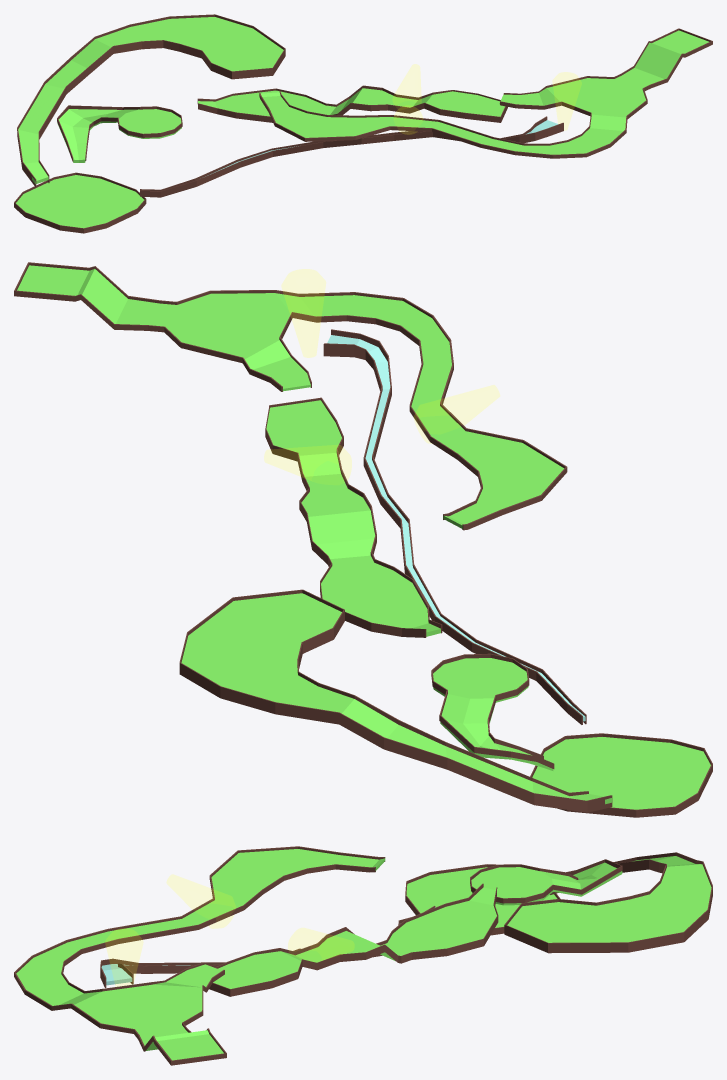
3 views of the same model, one above another, from view 1: azimuth 30°, elevation 25°; view 2: azimuth 150°, elevation 25°; view 3: azimuth 270°, elevation 25° (orthographic). The views are drawn at different scales.
Visible parts, largest first — view 1: Cube.093, Cube.094, Cylinder.050, Cylinder.051; view 2: Cube.093, Cube.094, Cube.096, Cylinder.050, Cylinder.051, Cylinder.052; view 3: Cube.093, Cube.094, Cylinder.050, Cylinder.052, Cylinder.051, Cube.096.
Boxes of the visible parts, x1,y1,x2,y2 form: Cube.093: [16, 17, 708, 228]; Cube.094: [14, 14, 712, 233]; Cylinder.050: [553, 72, 581, 129]; Cylinder.051: [393, 64, 420, 104]; Cube.093: [17, 265, 710, 809]; Cube.094: [14, 262, 712, 817]; Cube.096: [327, 335, 585, 721]; Cylinder.050: [282, 269, 325, 357]; Cylinder.051: [264, 445, 351, 480]; Cylinder.052: [414, 385, 499, 443]; Cube.093: [16, 849, 711, 1060]; Cube.094: [14, 846, 712, 1065]; Cylinder.050: [105, 929, 142, 986]; Cylinder.052: [167, 875, 235, 928]; Cylinder.051: [288, 928, 353, 959]; Cube.096: [101, 907, 435, 985].
Bounding box in the file's own units: 5248 × 1305 × 4356.
